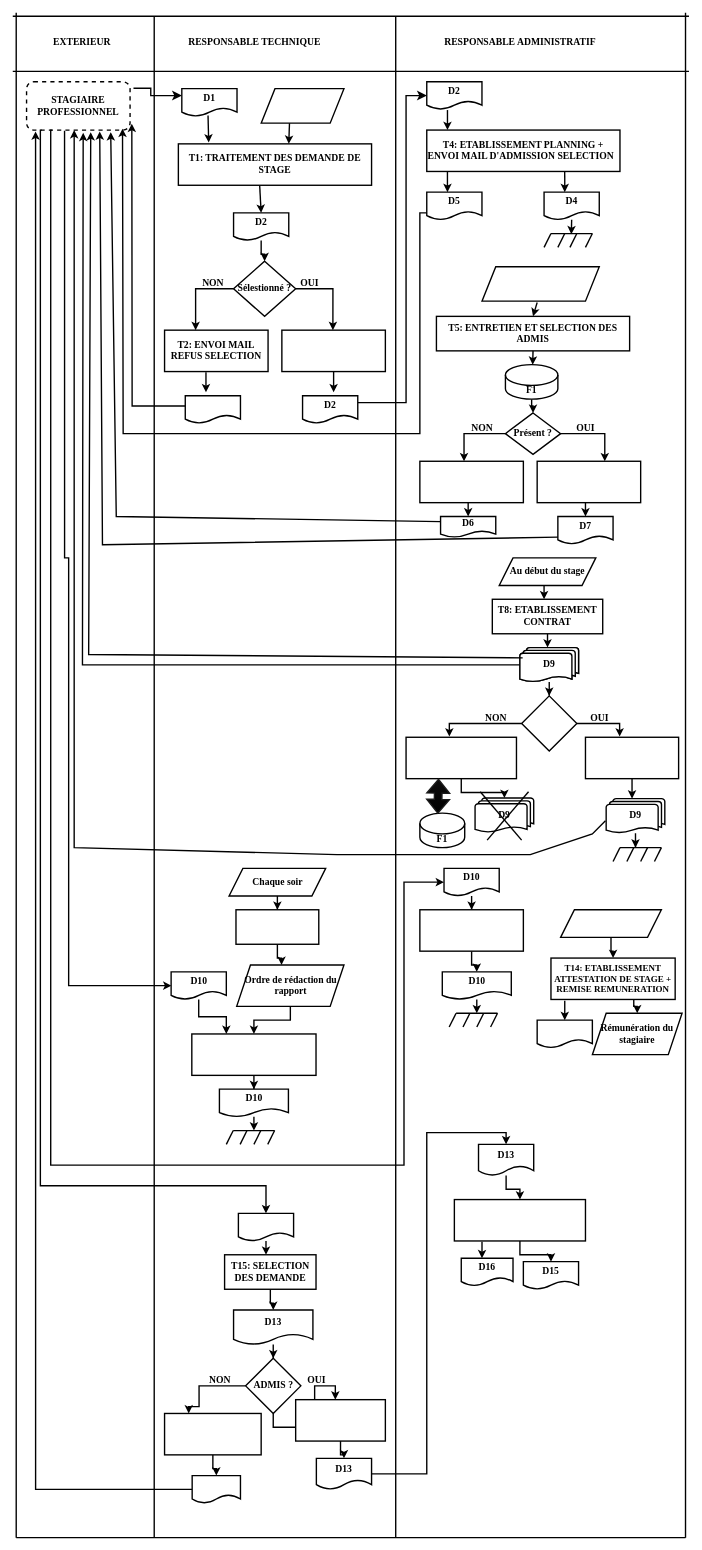
Some shapes in this 702 by 1550 pixel diagram are drawn without their labels. Here are the shapes that lost their labels. From the top down, the box of each, then its label:
(260, 88, 344, 124): Tous les jours ouvrables
(481, 266, 600, 302): Une semaine avant la période de stage
(281, 329, 386, 372): T3: TRANSMISSION DES DEMANDES APPROUVEES
(184, 395, 241, 424): D3
(419, 460, 524, 503): T6: ENVOI MAIL REFUS ENTRETIEN
(536, 460, 641, 503): T7: ENVOI MAIL ADMISSION ENTRETIEN
(521, 695, 577, 751): Signé ?
(405, 736, 517, 779): T9: DESTRUCTION DU CONTRAT ET MISE A JOUR DU FICHIER EXCEL
(584, 736, 679, 779): T10: Remise contrat (1) et archivage contrat (2)
(235, 909, 319, 945): T11: ORGANISATION REUNION
(419, 909, 524, 952): T13: ARCHUVAGE RAPPORT RECAPITULATIF
(560, 909, 662, 938): A la fin du stage
(536, 1019, 593, 1048): D11
(191, 1033, 316, 1076): T12: ARCHIVAGE RAPPORT RECAPITULATIF
(237, 1212, 294, 1241): D12
(453, 1199, 586, 1241): T18: ETABLISSEMENT NOUVEAU CONTRAT + ENVOI MAIL DE SIGNATURE
(164, 1412, 262, 1455): T16: ENVOI MAIL DE REFUS RENOUVELLEMENT CONTRAT
(295, 1399, 386, 1441): T17: TRANSMISSION DOSSIER RENOUVELLEMENT
(191, 1475, 241, 1504): D14
